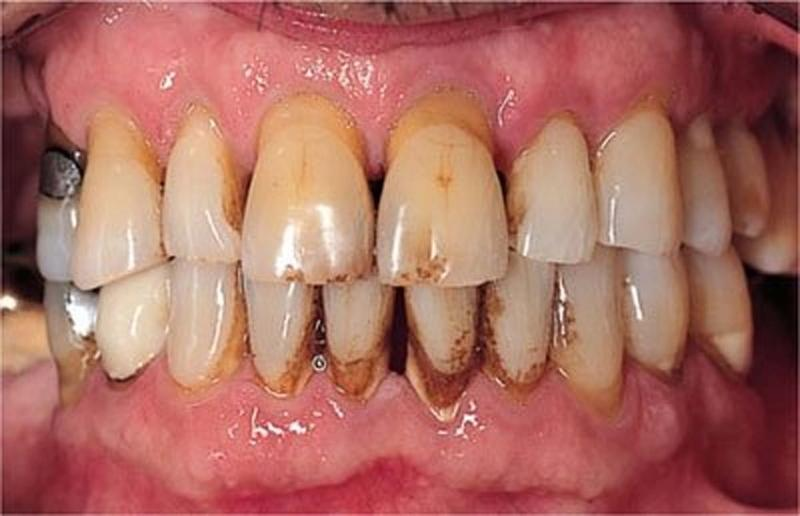LL1BC_decay: (619, 254, 688, 376)
LL2BC_decay: (688, 253, 752, 379)
LLCI_decay: (404, 285, 481, 413)
LLC_decay: (553, 258, 624, 410)
LLLI_decay: (483, 280, 552, 391)
LR1BC_decay: (98, 278, 168, 384)
LR2BC_decay: (44, 288, 96, 387)
LRCI_decay: (322, 282, 393, 393)
LRC_decay: (166, 262, 245, 388)
LRLI_decay: (243, 282, 319, 395)
UL1BC_healthy: (680, 115, 732, 254)
UL2BC_decay: (727, 121, 769, 236)
ULCI_decay: (377, 98, 508, 285)
ULC_healthy: (597, 105, 678, 254)
ULLI_decay: (508, 115, 598, 261)
UR1BC_decay: (37, 141, 75, 279)
URCI_decay: (241, 92, 375, 282)
URC_healthy: (74, 148, 161, 285)
URLI_decay: (162, 110, 243, 261)
